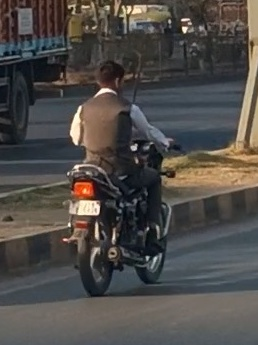BikeWithRider: (56, 54, 188, 300)
NoHelmet: (89, 55, 130, 96)
